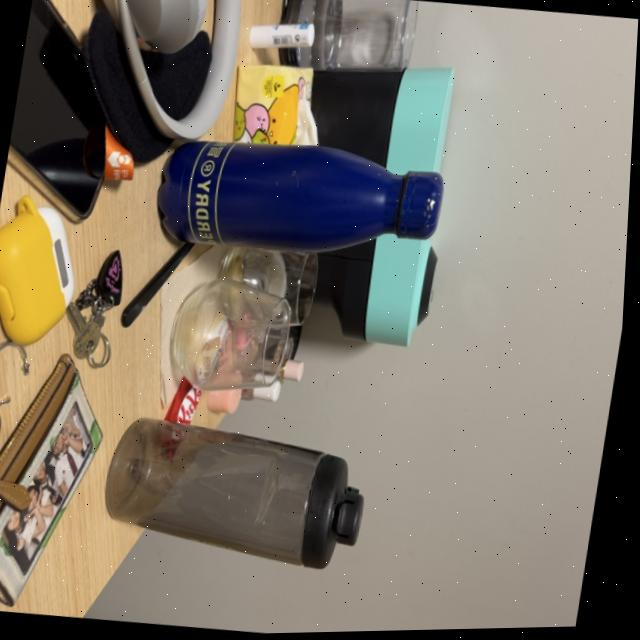chocolate: (155, 306, 246, 465)
